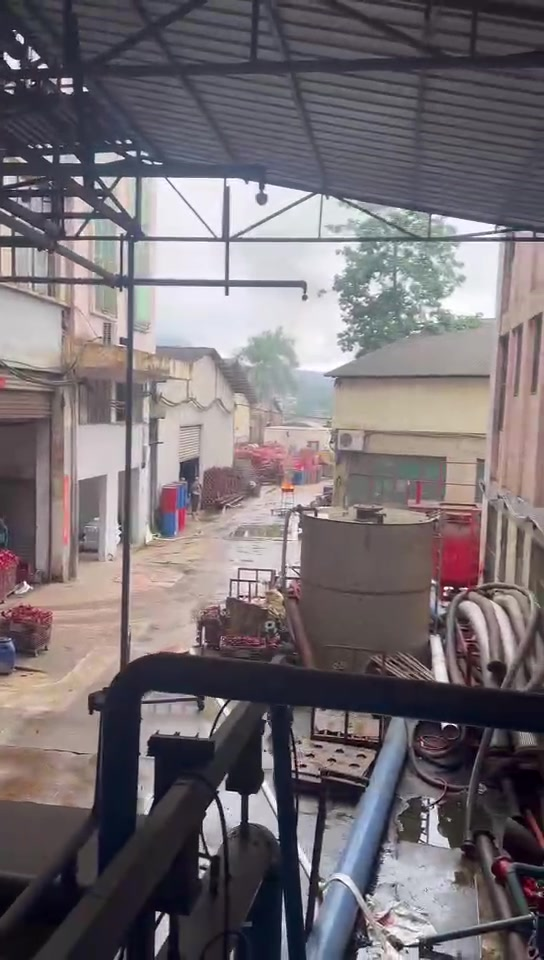fire: (280, 480, 293, 488)
